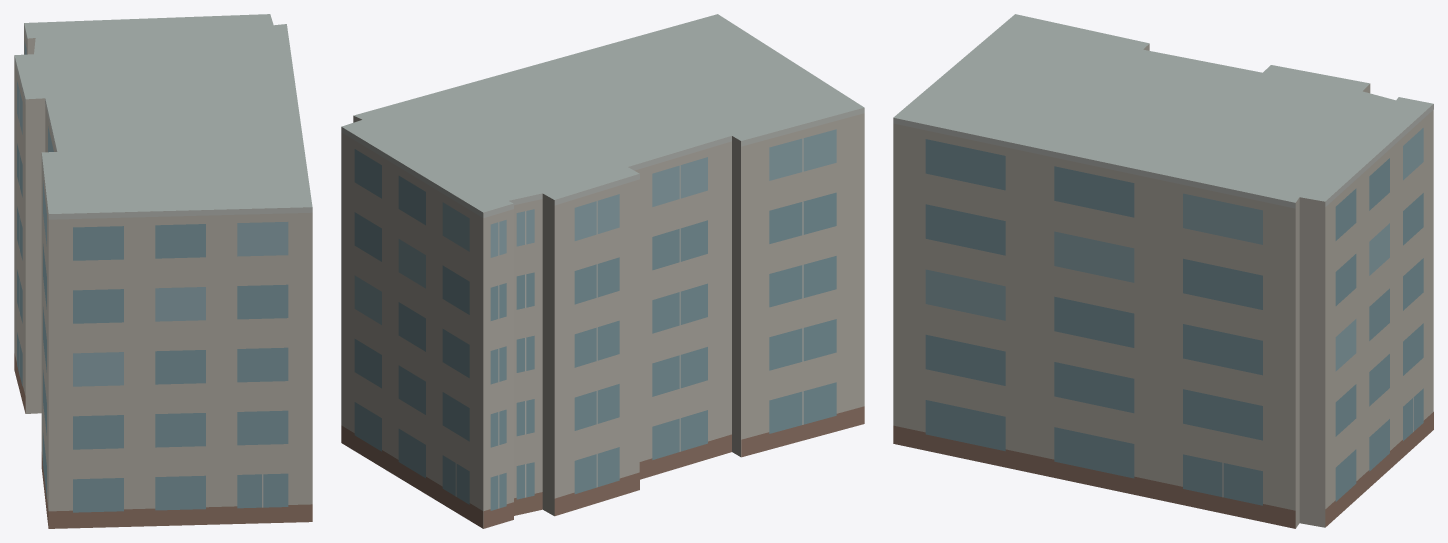
Rendered from survey-upis-32731114.glb.
The picture shows the model from 3 angles, left to right: view 1: azimuth 30°, elevation 25°; view 2: azimuth 150°, elevation 25°; view 3: azimuth 270°, elevation 25°; orthographic projection. The views are drawn at different scales.
Visible parts, largest first — view 1: survey-upis-32731114.tmp; view 2: survey-upis-32731114.tmp; view 3: survey-upis-32731114.tmp.
Part boxes in pixels (<box>): survey-upis-32731114.tmp: <box>14,14,312,528</box>; survey-upis-32731114.tmp: <box>341,14,864,528</box>; survey-upis-32731114.tmp: <box>893,14,1433,528</box>.
Bounding box in the file's own units: 17.15 × 13.8 × 20.74.
